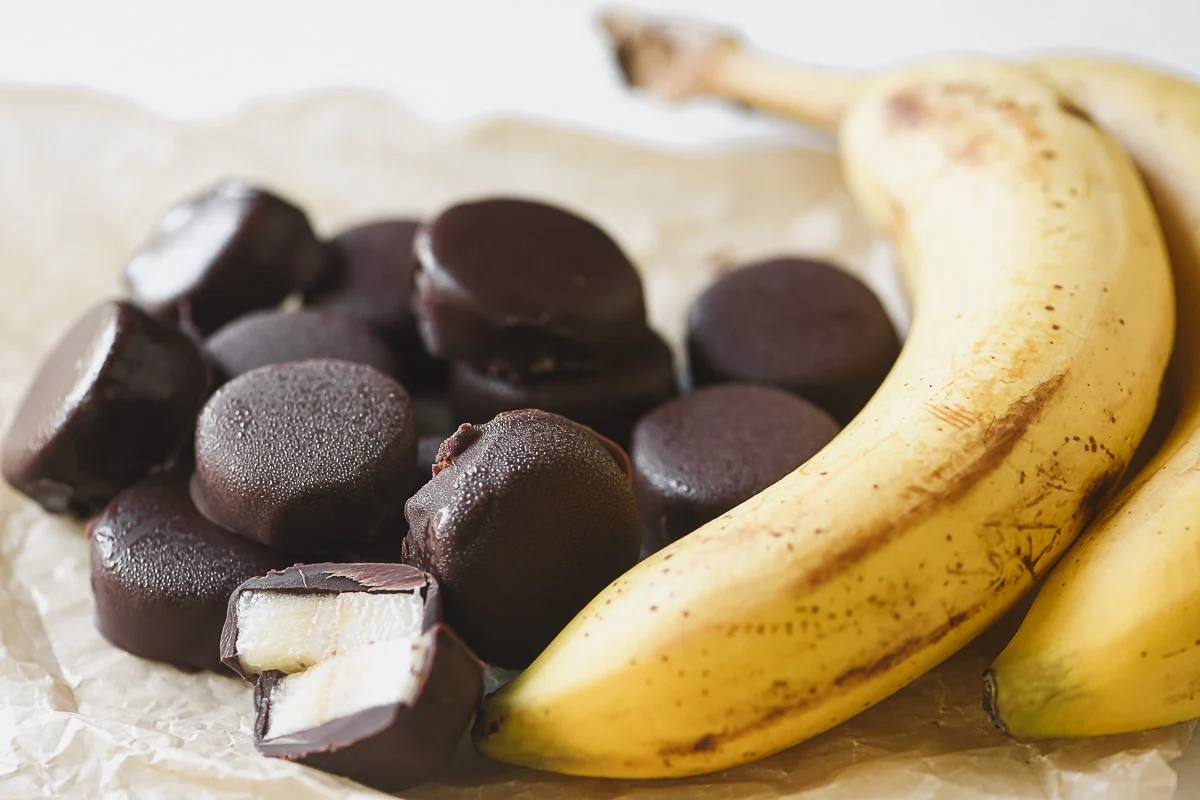banana: (478, 23, 1200, 790)
